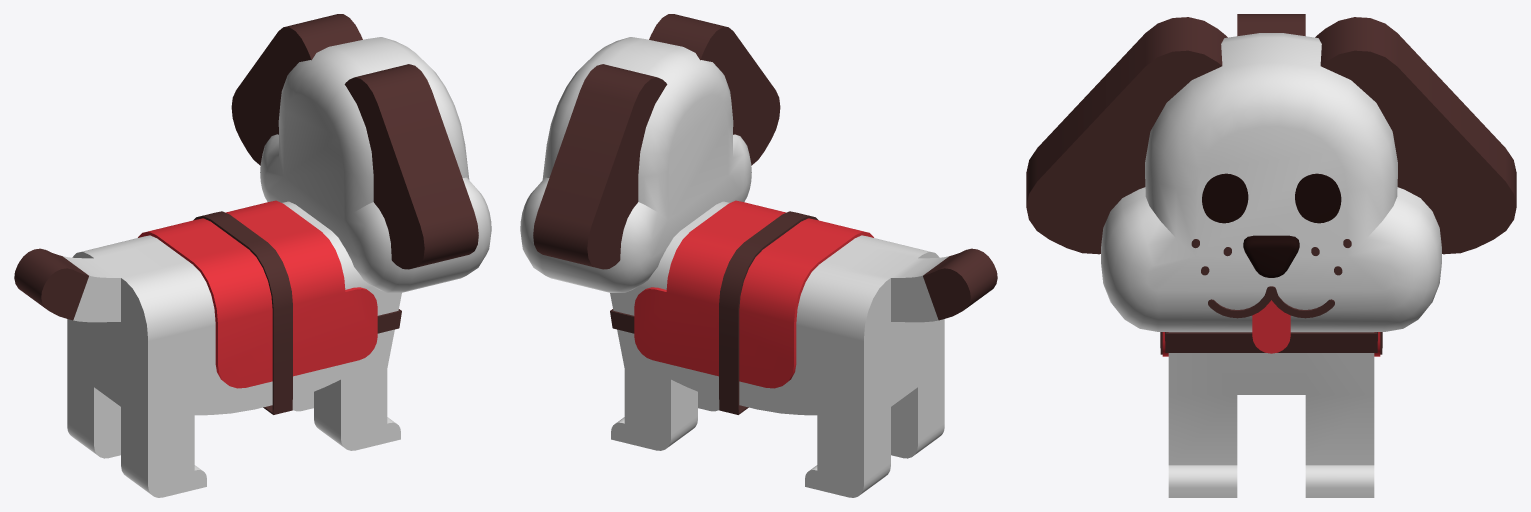
File: Service Dog Redo.gltf
3 renders of one model, left to right at view 1: azimuth 30°, elevation 25°; view 2: azimuth 150°, elevation 25°; view 3: azimuth 270°, elevation 25°, orthographic. The views are drawn at different scales.
Parts seen in each view (by area): view 1: Cube.6175, Cube.6171, Cube.6173, Cube.6177, Cube.6176; view 2: Cube.6175, Cube.6171, Cube.6173, Cube.6177, Cube.6176; view 3: Cube.6171, Cube.6173, Cube.6175, Cube.6176, Circle.1841, Cube.6172, Cube.6174, Circle.1842.
Part boxes in pixels (<box>): Cube.6175: <box>14,201,401,497</box>; Cube.6171: <box>260,37,491,292</box>; Cube.6173: <box>231,14,478,269</box>; Cube.6177: <box>138,200,377,388</box>; Cube.6176: <box>193,211,401,414</box>; Cube.6175: <box>610,201,997,497</box>; Cube.6171: <box>520,37,751,292</box>; Cube.6173: <box>533,14,780,269</box>; Cube.6177: <box>634,200,873,388</box>; Cube.6176: <box>610,211,818,414</box>; Cube.6171: <box>1101,33,1441,331</box>; Cube.6173: <box>1026,17,1516,254</box>; Cube.6175: <box>1168,14,1374,497</box>; Cube.6176: <box>1160,332,1382,354</box>; Circle.1841: <box>1202,173,1341,223</box>; Cube.6172: <box>1243,235,1299,277</box>; Cube.6174: <box>1252,300,1290,353</box>; Circle.1842: <box>1208,286,1334,318</box>.
Size of the model in its own units: 4.82 by 4.01 by 3.87.
